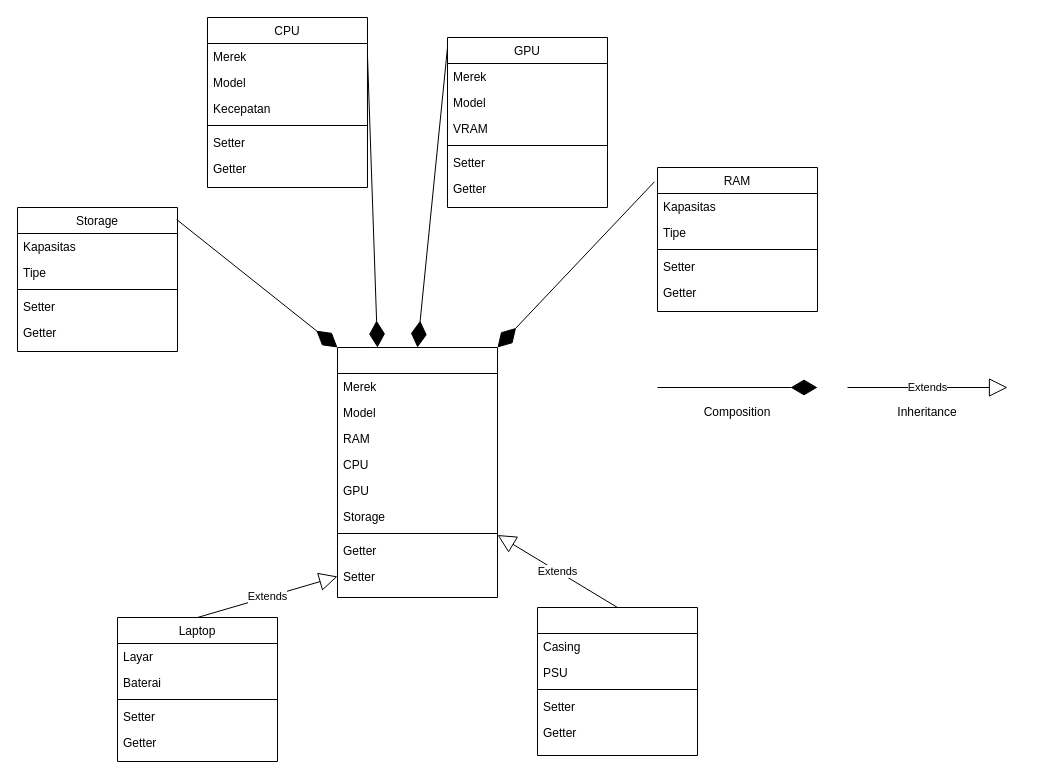
Some shapes in this 1043 by 779 pixel diagram are drawn without their labels. Each missing label, with the box of its shape:
Dekstop: (536, 606, 698, 756)
Komputer: (336, 346, 498, 598)
